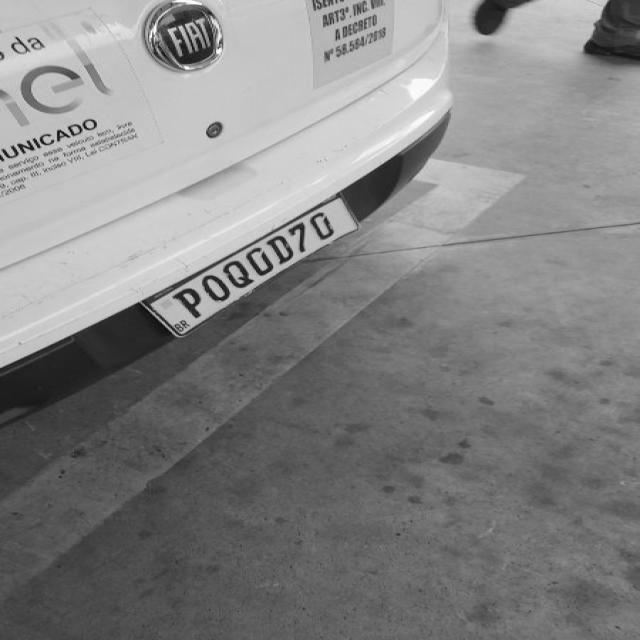placa_mercosul: (142, 198, 356, 335)
